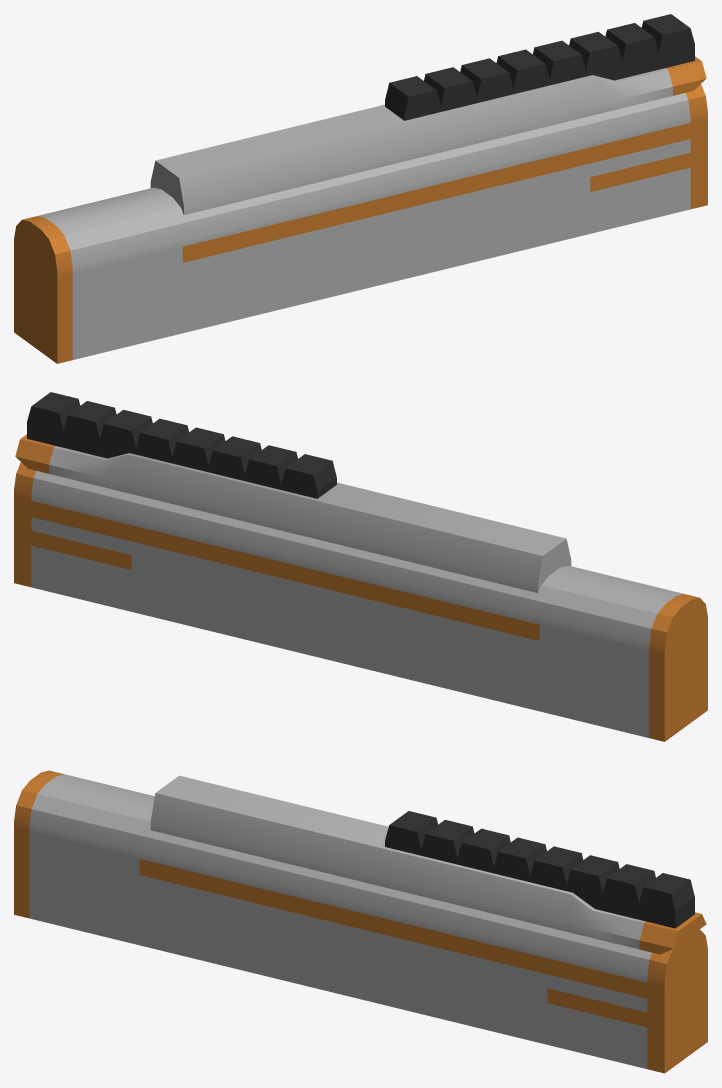
File: Body_Pistol_3.glb
3 views of the same model, one above another, from view 1: azimuth 30°, elevation 25°; view 2: azimuth 150°, elevation 25°; view 3: azimuth 330°, elevation 25° (orthographic).
Parts seen in each view (by area): view 1: Body_Pistol_3; view 2: Body_Pistol_3; view 3: Body_Pistol_3.
Part boxes in pixels (x1=…): Body_Pistol_3: x1=14, y1=14, x2=707, y2=363; Body_Pistol_3: x1=14, y1=392, x2=707, y2=741; Body_Pistol_3: x1=14, y1=770, x2=707, y2=1073.
Bounding box in the file's own units: 0.7919 × 0.1961 × 0.0905.
